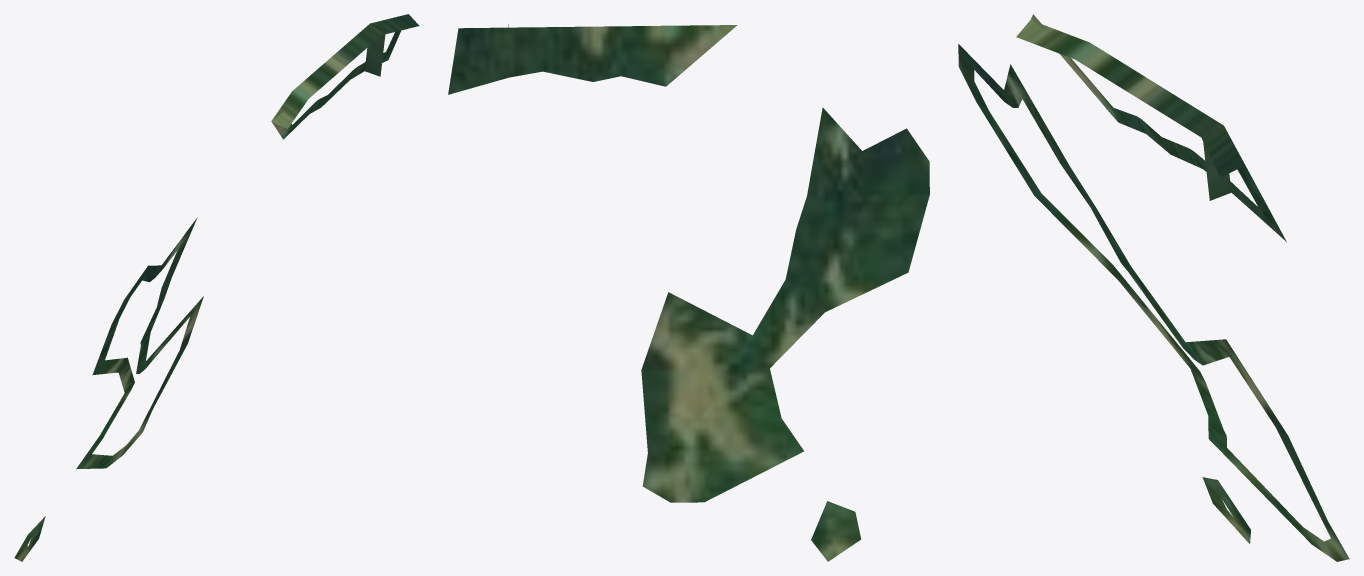
3 views of the same model, side by side, from view 1: azimuth 30°, elevation 25°; view 2: azimuth 150°, elevation 25°; view 3: azimuth 270°, elevation 25° (orthographic). The views are drawn at different scales.
Bounding box in the file's own units: 808 × 881 × 477.
Materials: 1 (1 with a texture image).
